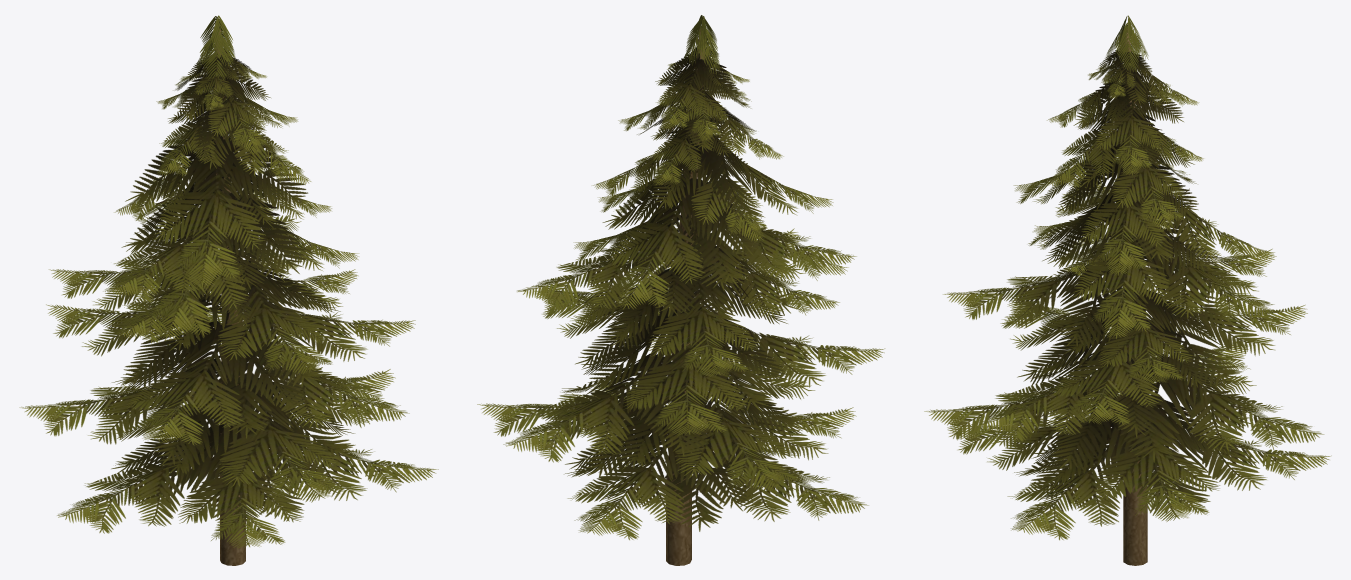
The model's file is pine.glb.
The picture shows the model from 3 angles, left to right: view 1: azimuth 30°, elevation 25°; view 2: azimuth 150°, elevation 25°; view 3: azimuth 270°, elevation 25°; orthographic projection. The views are drawn at different scales.
Parts seen in each view (by area): view 1: Leaves/001, Trank.001; view 2: Leaves/001, Trank.001; view 3: Leaves/001, Trank.001.
Part boxes in pixels (x1,y1,x2,y2): Leaves/001: [19, 15, 438, 548]; Trank.001: [214, 29, 245, 565]; Leaves/001: [477, 15, 885, 540]; Trank.001: [666, 28, 705, 565]; Leaves/001: [924, 15, 1331, 540]; Trank.001: [1121, 28, 1147, 565].
Size of the model in its own units: 217 by 308 by 217.
Materials: 2 (2 with a texture image).
